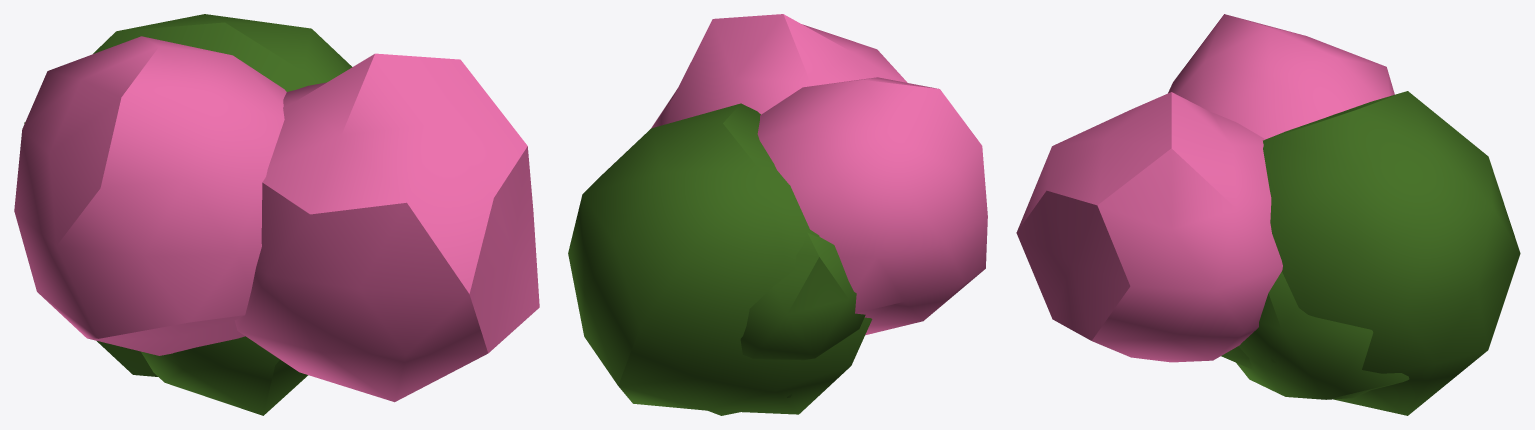
The model's file is shrub_b.fbx.
3 views of the same model, side by side, from view 1: azimuth 30°, elevation 25°; view 2: azimuth 150°, elevation 25°; view 3: azimuth 270°, elevation 25° (orthographic). The views are drawn at different scales.
Visible parts, largest first — view 1: shrub_b; view 2: shrub_b; view 3: shrub_b.
Boxes of the visible parts, x1,y1,x2,y2 form: shrub_b: (14, 14, 539, 415); shrub_b: (568, 14, 987, 415); shrub_b: (1016, 14, 1520, 415).
Size of the model in its own units: 1.43 by 1.25 by 1.78.
